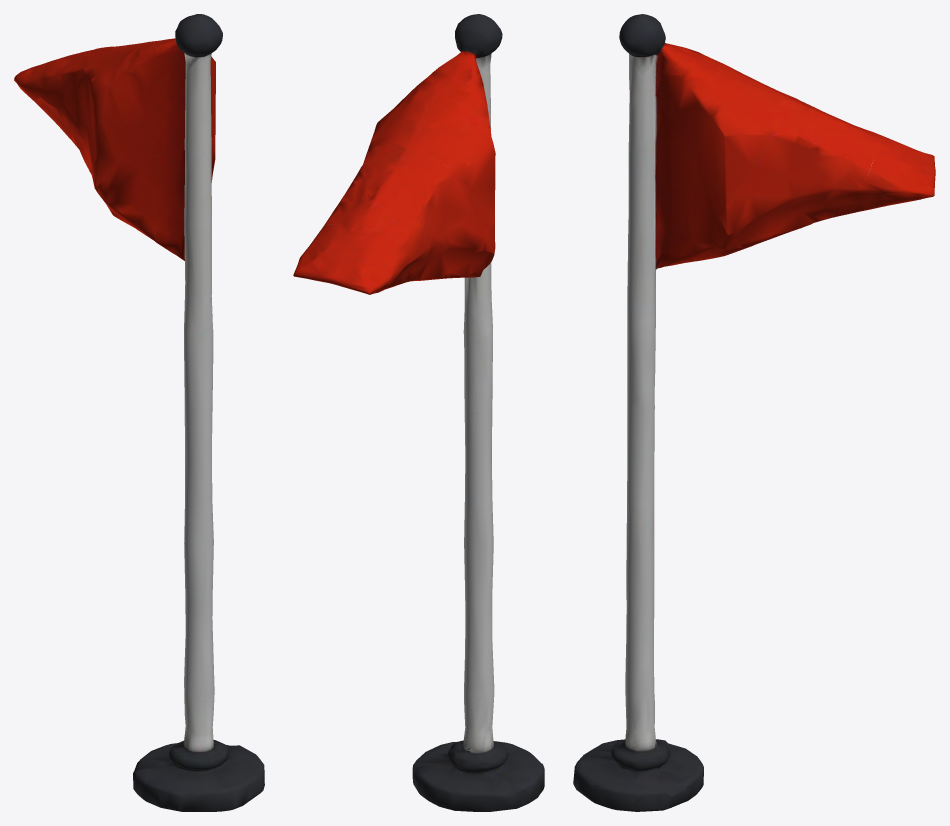
Rendered from flag.glb.
3 renders of one model, left to right at view 1: azimuth 30°, elevation 25°; view 2: azimuth 150°, elevation 25°; view 3: azimuth 270°, elevation 25°, orthographic.
Visible parts, largest first — view 1: tripo_node_ff0aa36f-15f6-4693-821d-c2e3e9365cab; view 2: tripo_node_ff0aa36f-15f6-4693-821d-c2e3e9365cab; view 3: tripo_node_ff0aa36f-15f6-4693-821d-c2e3e9365cab.
Part boxes in pixels (box(x1,y1,x2,y2)): tripo_node_ff0aa36f-15f6-4693-821d-c2e3e9365cab: box(14, 14, 264, 811); tripo_node_ff0aa36f-15f6-4693-821d-c2e3e9365cab: box(293, 14, 544, 811); tripo_node_ff0aa36f-15f6-4693-821d-c2e3e9365cab: box(573, 14, 935, 811).
Bounding box in the file's own units: 0.1627 × 0.9996 × 0.426.
1 material, 1 textured.
